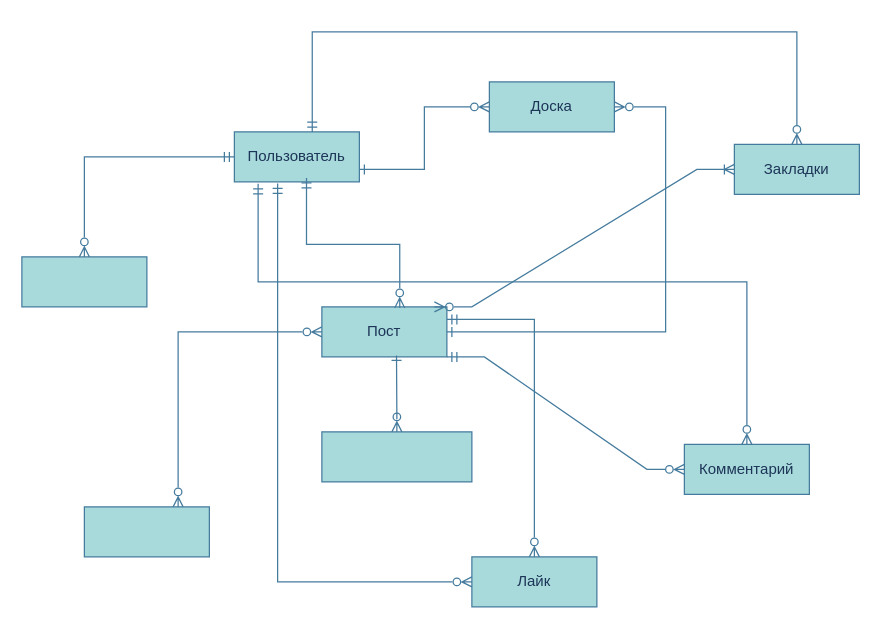
Some shapes in this 881 by 629 pixel diagram are drawn without their labels. The shapes that lost their labels are listed below. From the top down, each one's centre as x and y in pixels, then its label:
At point 84,281: "Подписка".
At point 396,456: "Пост_изображение".
At point 146,531: "Тег".
